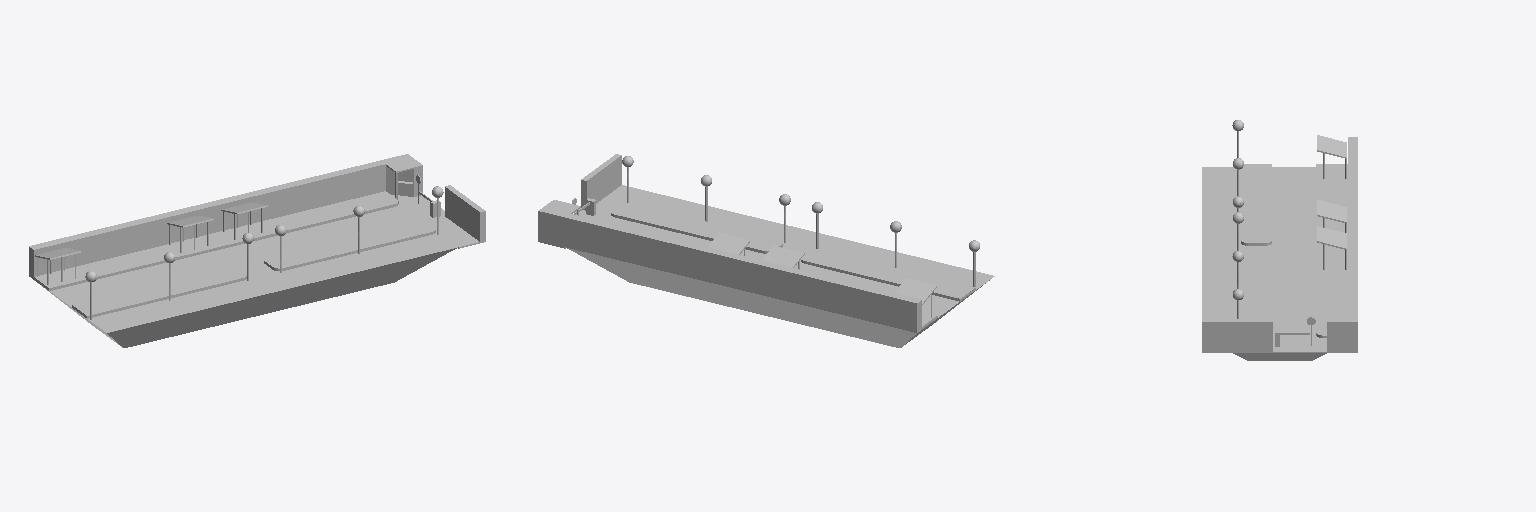
The model's file is parking.obj.
3 renders of one model, left to right at view 1: azimuth 30°, elevation 25°; view 2: azimuth 150°, elevation 25°; view 3: azimuth 270°, elevation 25°, orthographic.
Bounding box in the file's own units: 282 × 63.73 × 100.